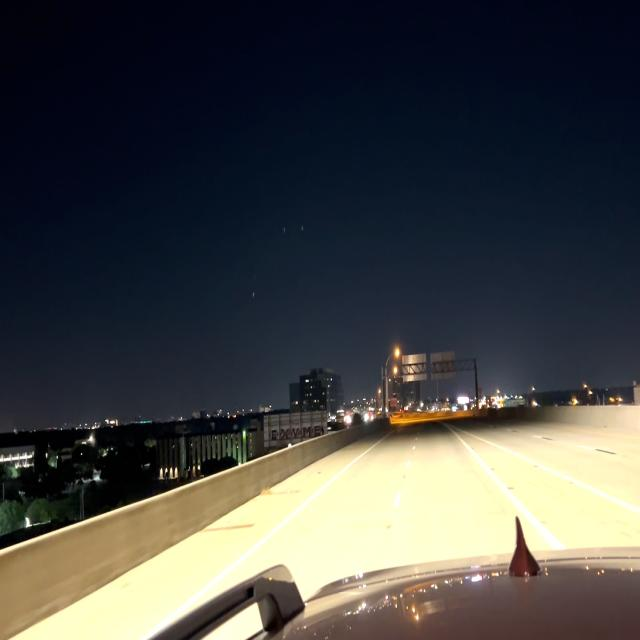back-of-sign: (429, 352, 457, 383), (402, 353, 428, 385)
